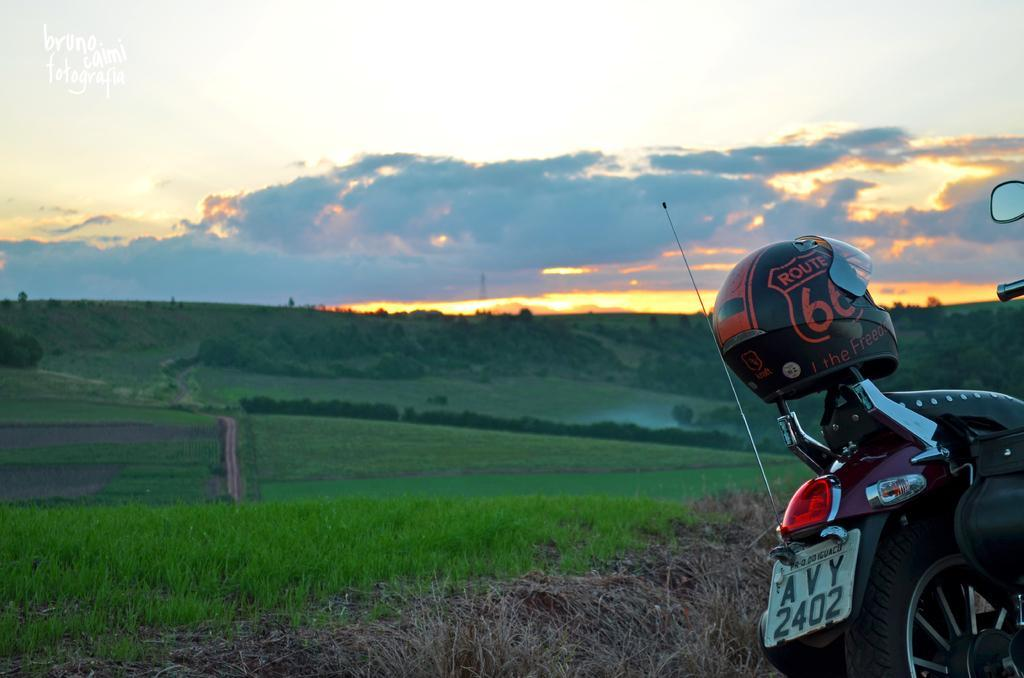helmet: (711, 234, 901, 405)
